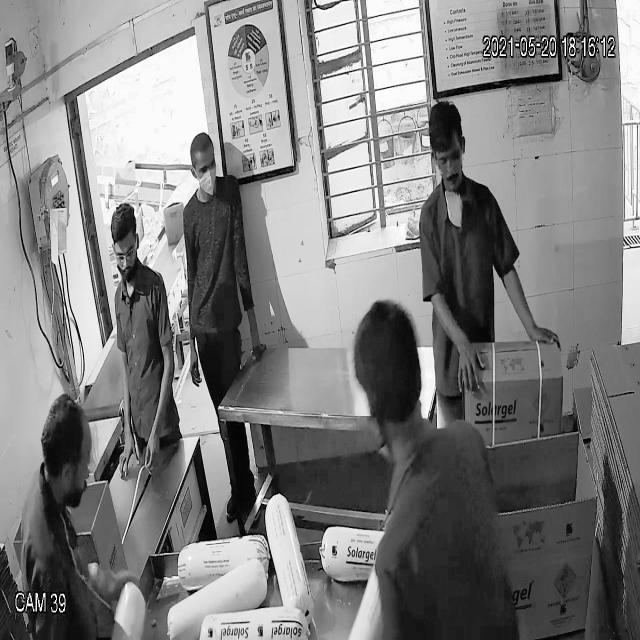glasses: (110, 241, 142, 267)
